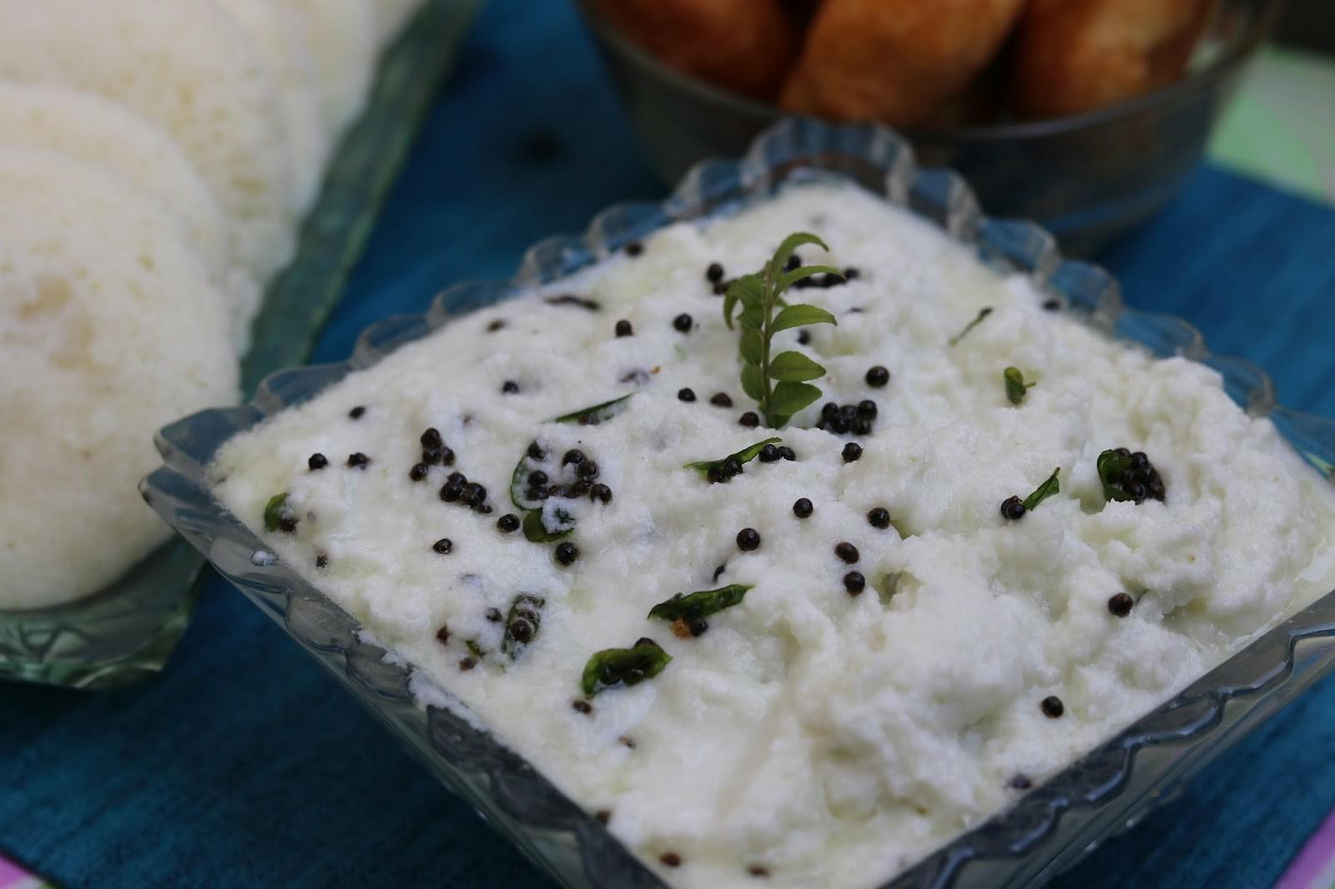CoconutChutney: (211, 180, 1335, 889)
